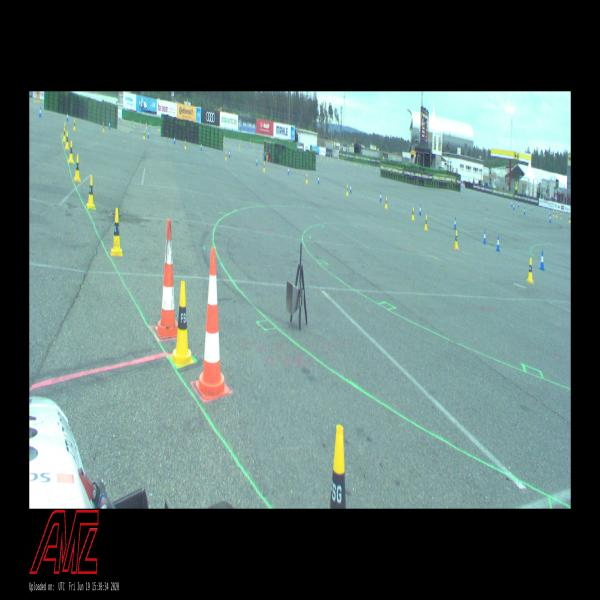blue_cone: (540, 250, 544, 270), (496, 236, 500, 251), (453, 216, 457, 229), (483, 229, 486, 244), (418, 204, 421, 216), (379, 192, 382, 202), (39, 107, 41, 117), (108, 120, 110, 130), (67, 112, 69, 121), (200, 142, 202, 151), (549, 210, 551, 217), (256, 157, 257, 166), (229, 149, 230, 158), (318, 175, 319, 184), (174, 136, 175, 144), (148, 130, 149, 138), (550, 215, 551, 222), (288, 167, 289, 174)
large_orange_cone: (195, 247, 229, 400), (155, 219, 178, 339)
yellow_cone: (170, 281, 194, 367), (329, 424, 346, 508), (110, 208, 123, 257), (86, 175, 96, 210), (74, 155, 80, 183), (527, 258, 533, 283), (68, 141, 74, 163), (454, 230, 459, 250), (65, 132, 69, 149), (424, 215, 428, 230), (62, 127, 66, 142), (411, 207, 415, 220), (63, 123, 66, 134), (73, 119, 76, 130), (305, 173, 308, 184), (385, 196, 387, 209), (346, 185, 348, 196), (184, 140, 186, 150), (225, 151, 227, 161), (102, 122, 104, 132), (264, 162, 266, 172), (143, 130, 145, 139)
